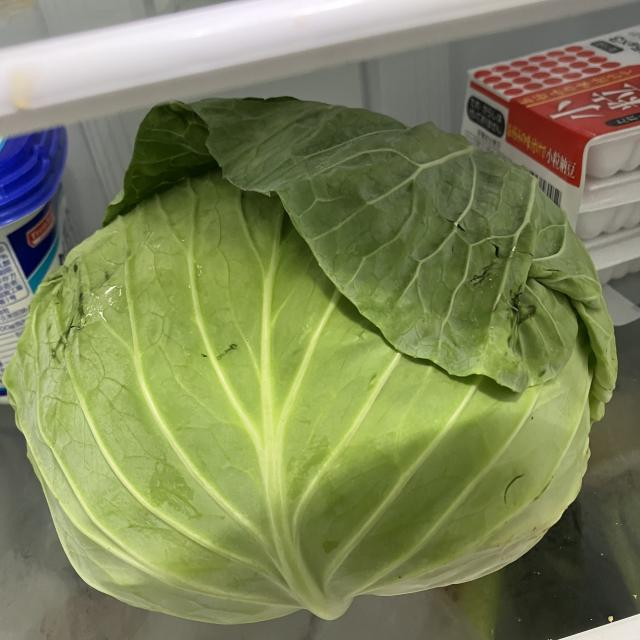cabbage: (4, 102, 619, 630)
